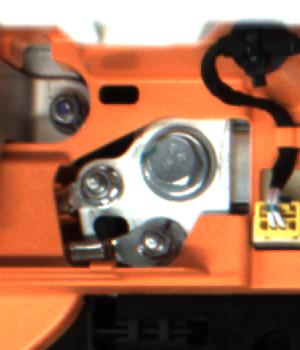nut_b: (138, 122, 222, 204)
